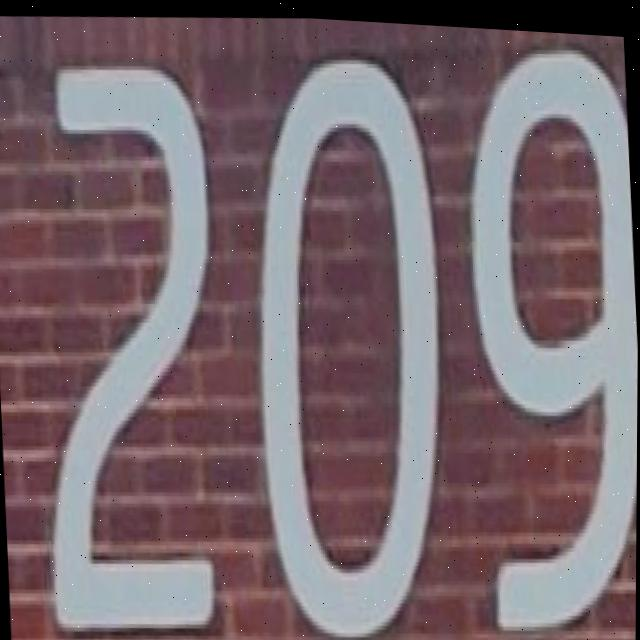character: (233, 40, 467, 640), (20, 42, 242, 640), (446, 34, 640, 640)
